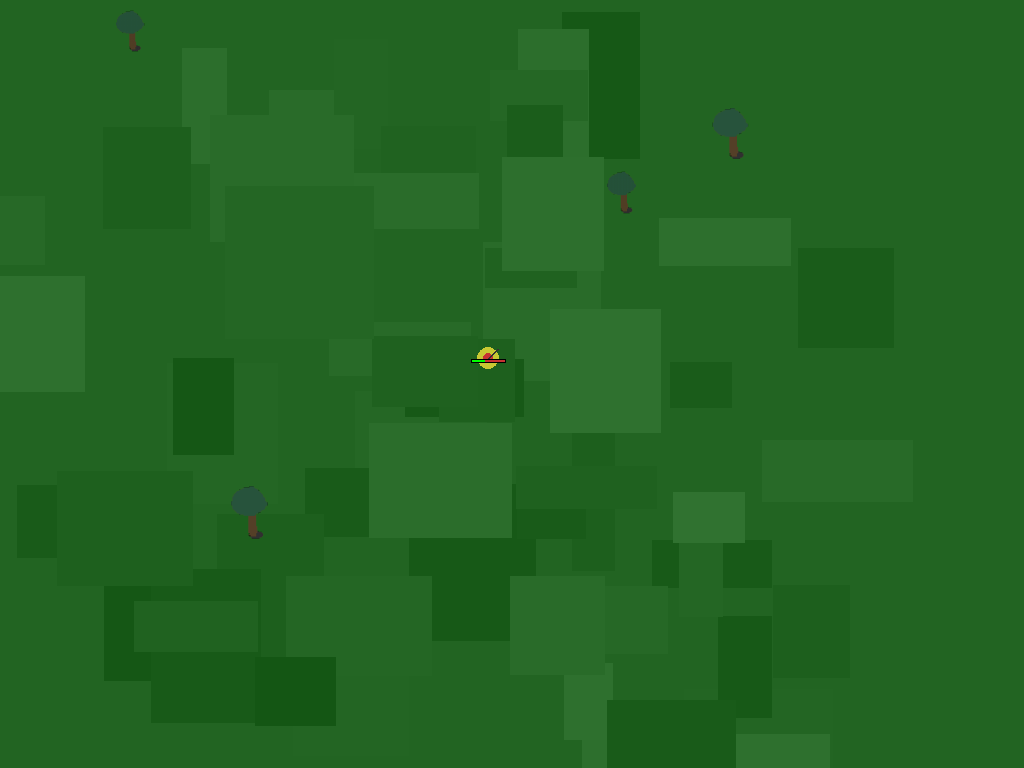CombatEngineer: (468, 338, 508, 378)
